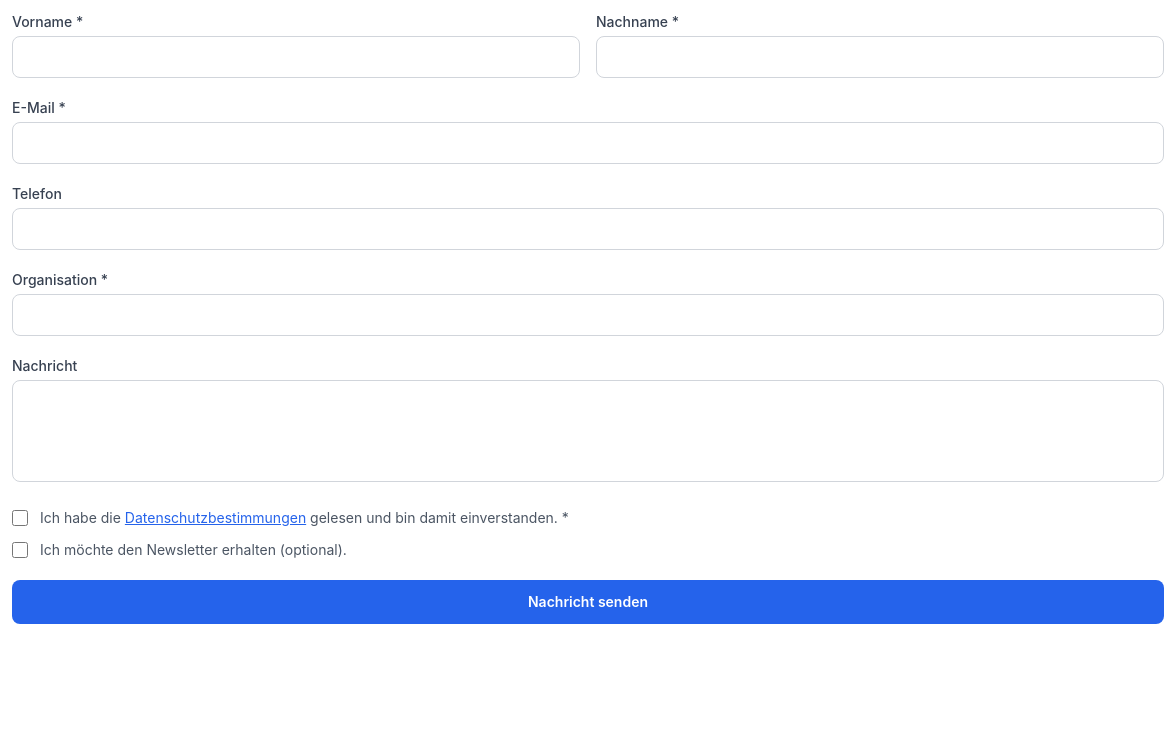
ContactForm › shows error message on API failure
Type "Max" into the field labelled "Vorname *" at (296, 57), box [12, 36, 580, 78]
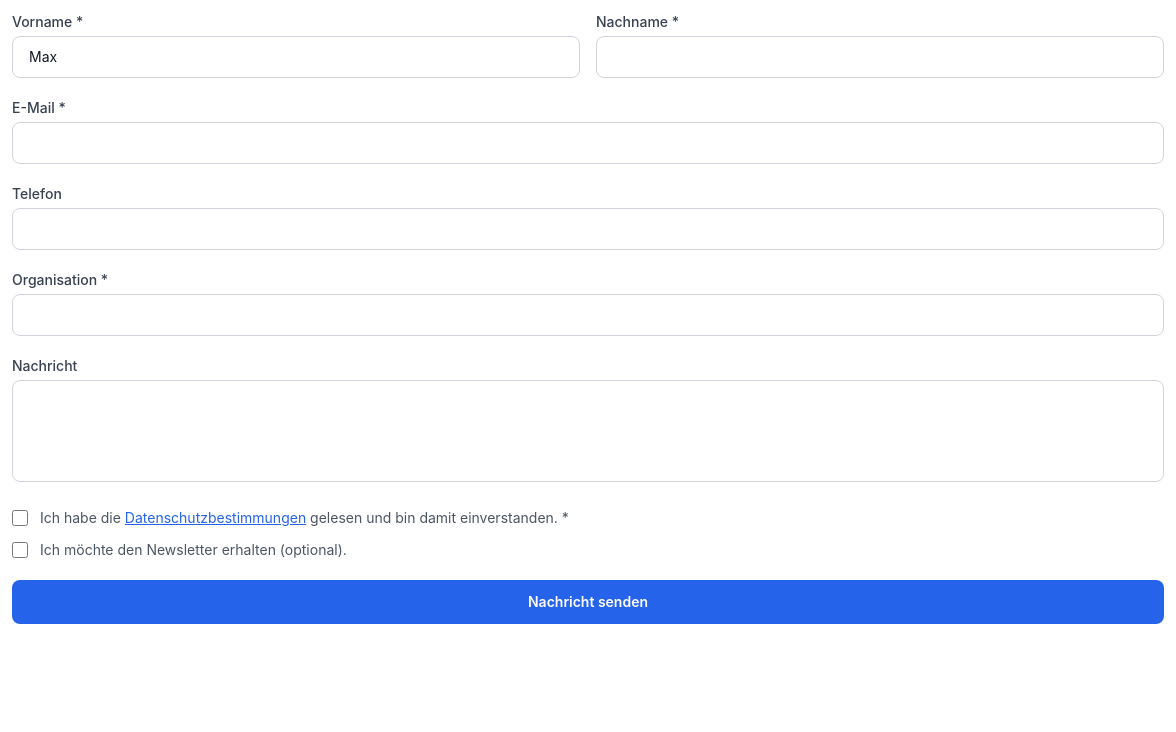
Type "Muster" into the field labelled "Nachname *" at (880, 57), box [596, 36, 1164, 78]
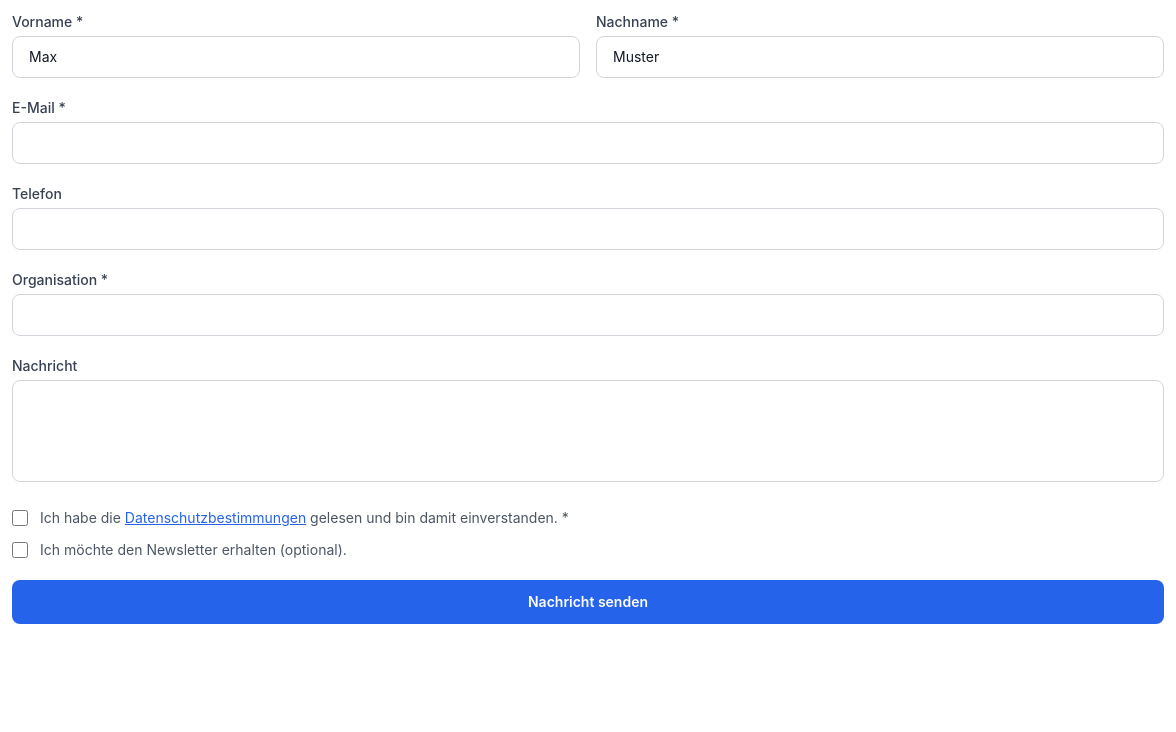
Type "max@test.de" into the field labelled "E-Mail *" at (588, 143), box [12, 122, 1164, 164]
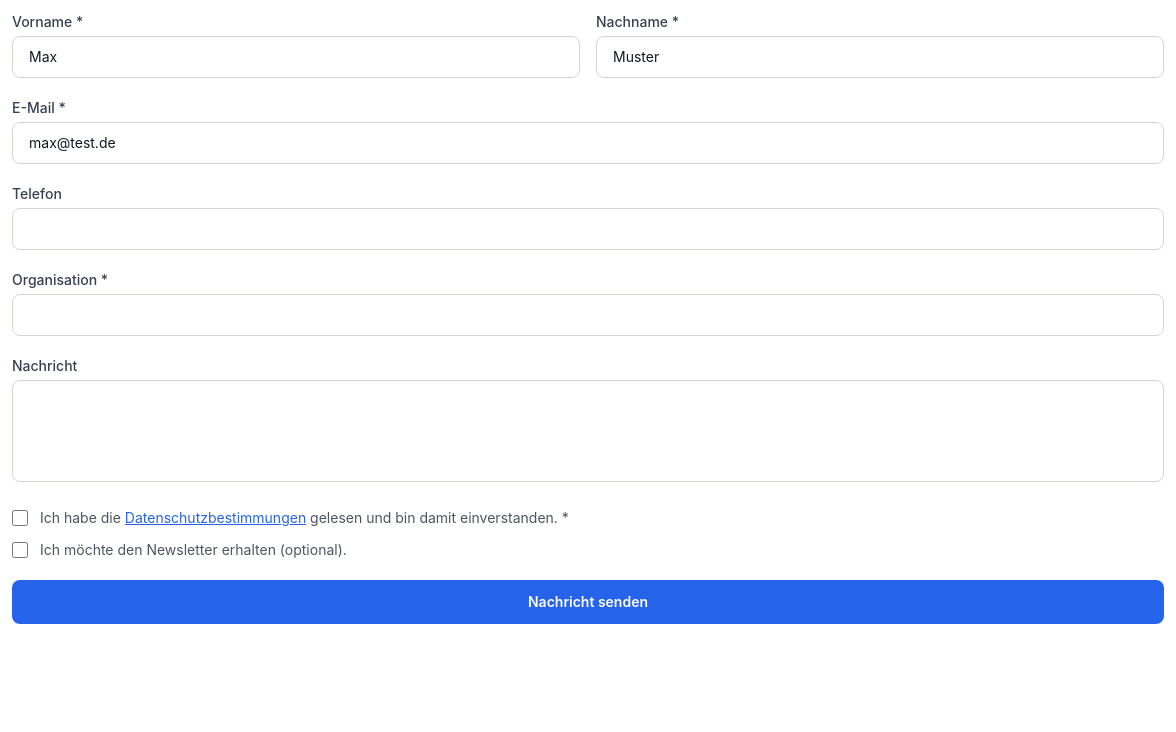
Type "Stadt" into the field labelled "Organisation *" at (588, 315), box [12, 294, 1164, 336]
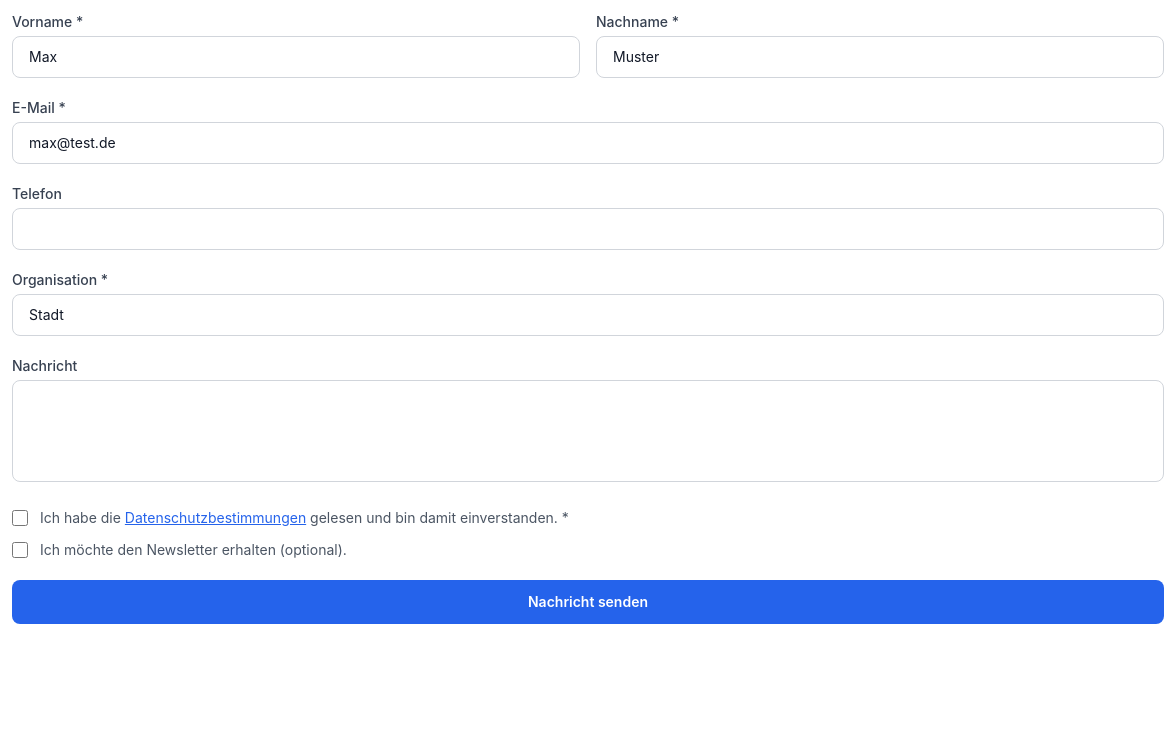
Click the checkbox labelled "Datenschutz" at (20, 518), box [12, 510, 28, 526]
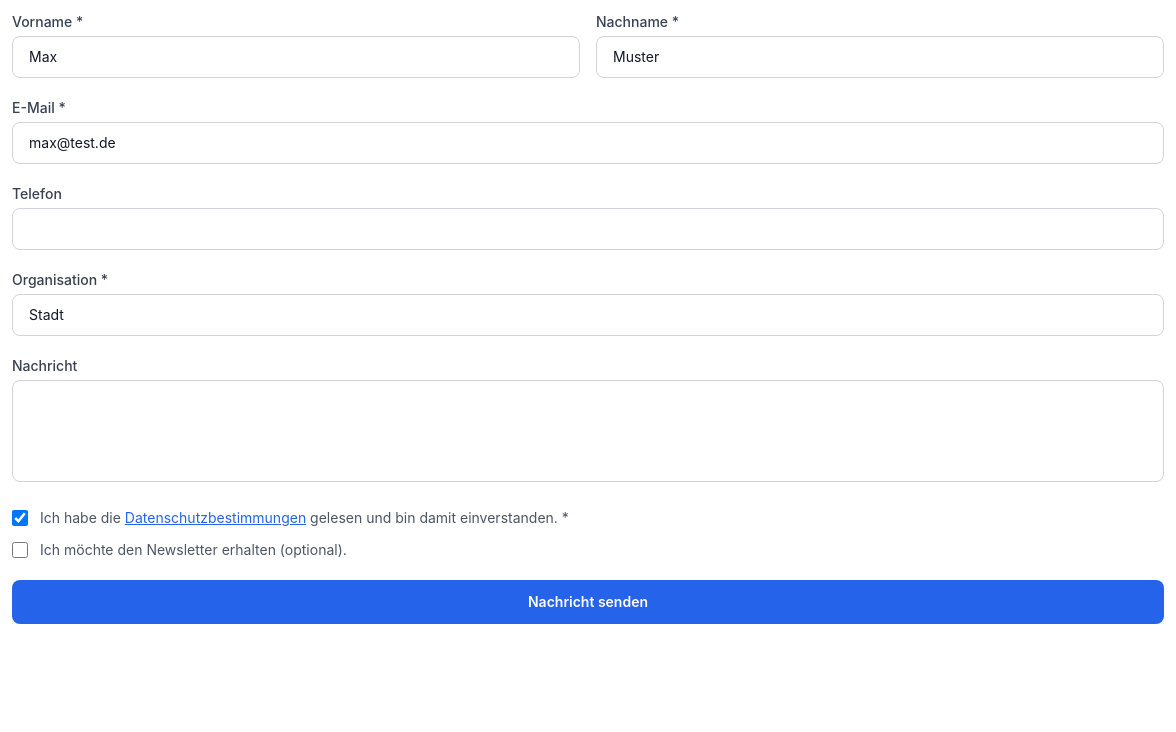
Click the button "Nachricht senden" at (588, 602), box [12, 580, 1164, 624]
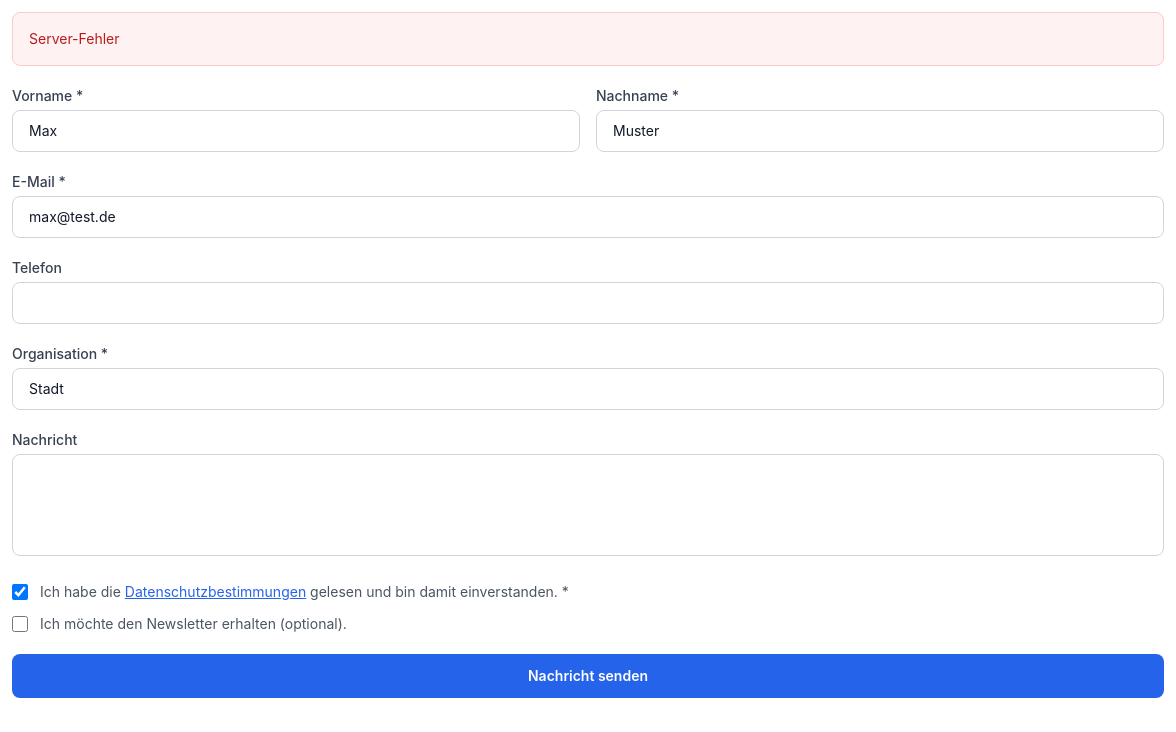
Check: the text "Server-Fehler" is shown, box [29, 30, 120, 47]
